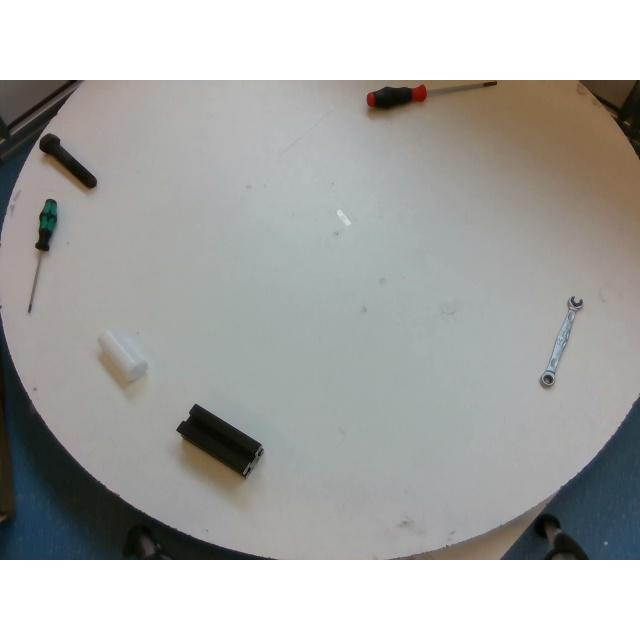M20_100: (39, 133, 97, 187)
S40_40_B: (178, 404, 262, 476)
Screwdriver: (27, 198, 57, 312)
Spacer: (98, 330, 146, 386)
Wrench: (539, 296, 583, 388)
